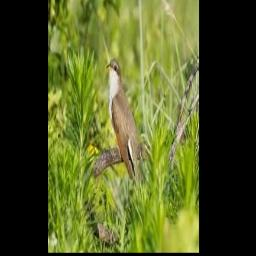Cuckoo: (106, 59, 141, 190)
